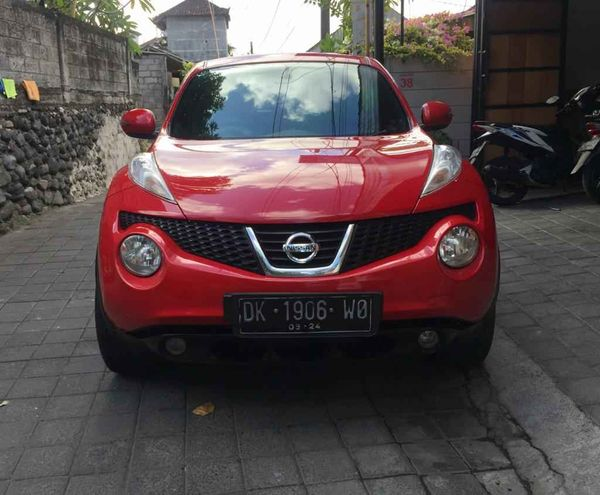plate: (229, 295, 378, 339)
